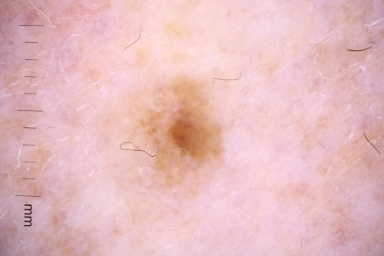nevus: (150, 85, 220, 172)
